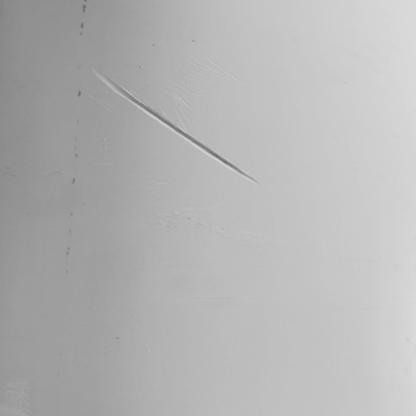sunshang: (94, 70, 259, 184)
